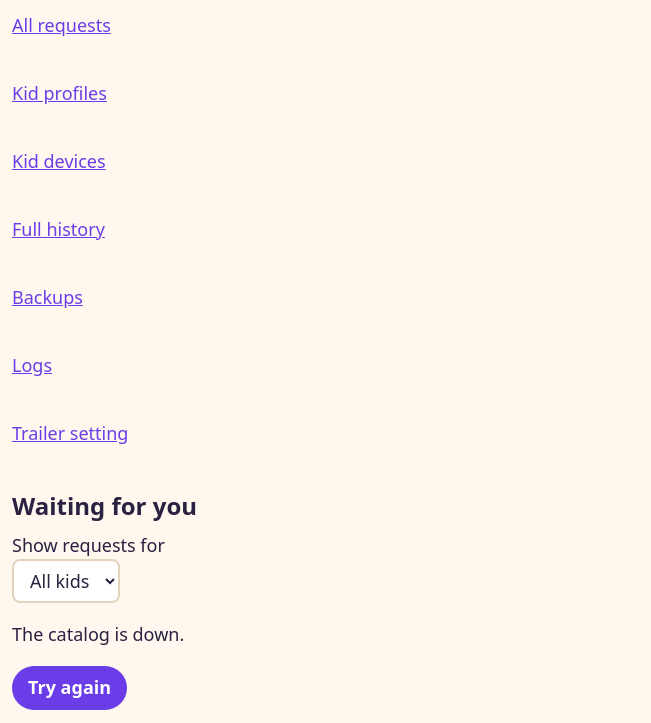
Test case: names a queue failure, a bad payload, and a dropped connection differently
Expected: the message shows "The catalog is down.", [12,622,184,646]
Click the button "Try again".
click(70, 688)  # box [12,666,127,710]
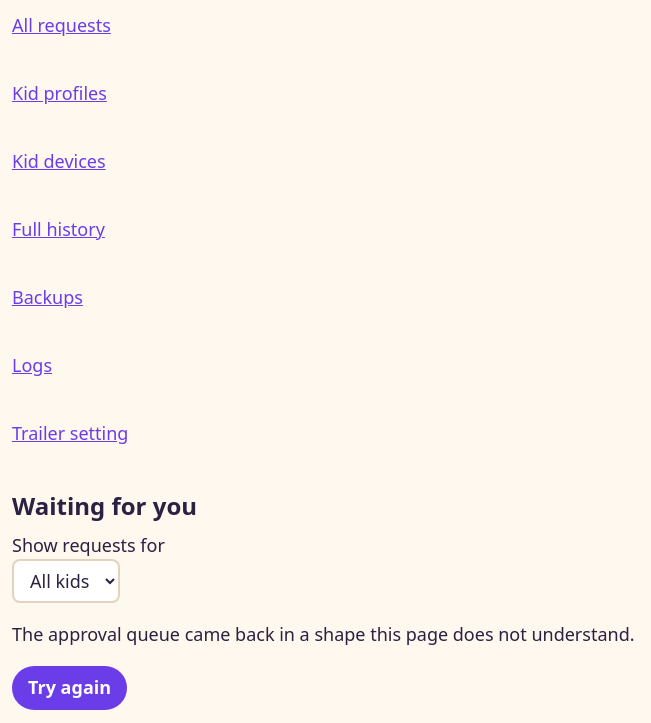
Result: the message shows "The approval queue came back in a shape this page does not understand." at [12,622,634,646]
Click the button "Try again".
click(70, 688)  # box [12,666,127,710]
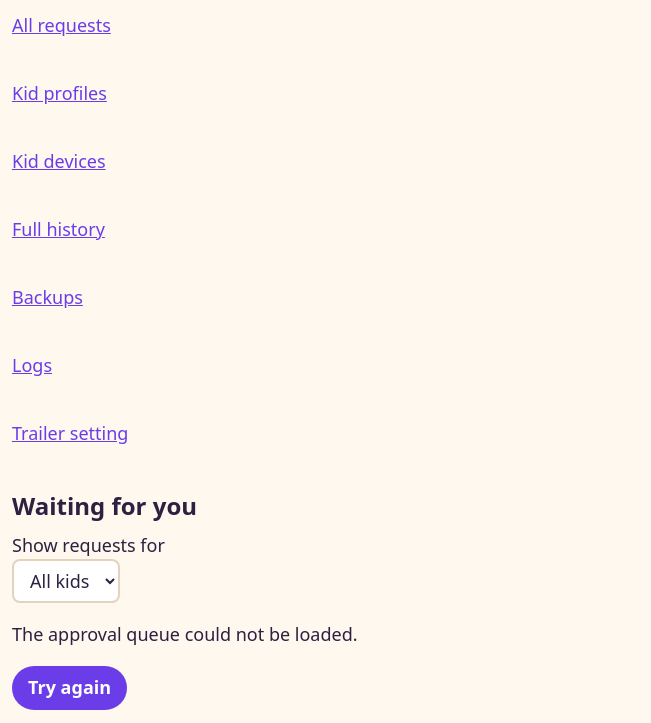
Result: the message shows "The approval queue could not be loaded." at [12,622,358,646]
Click the button "Try again".
click(70, 688)  # box [12,666,127,710]
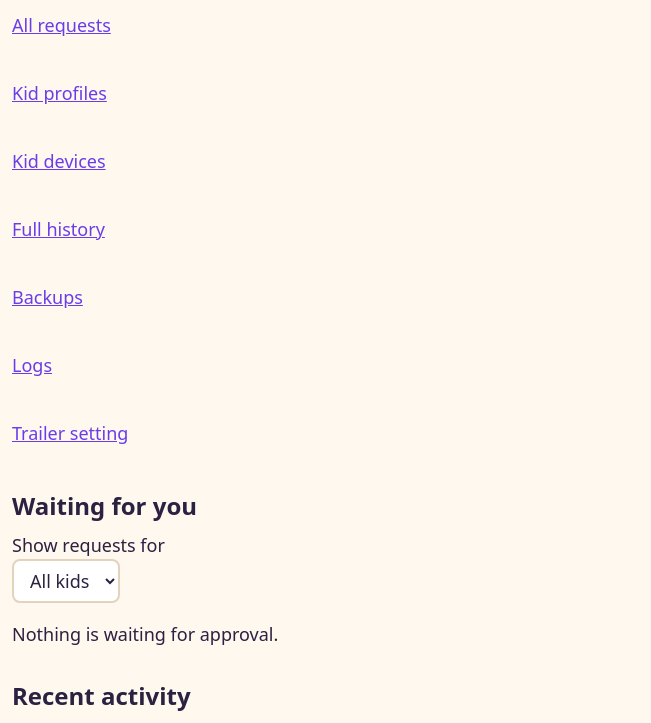
Result: the text "Nothing is waiting for approval." is shown at [12,622,278,646]
